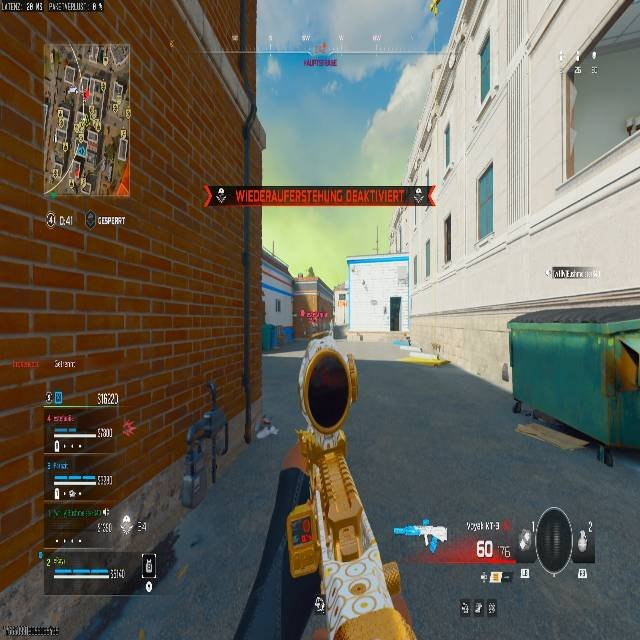player: (306, 42, 341, 98)
